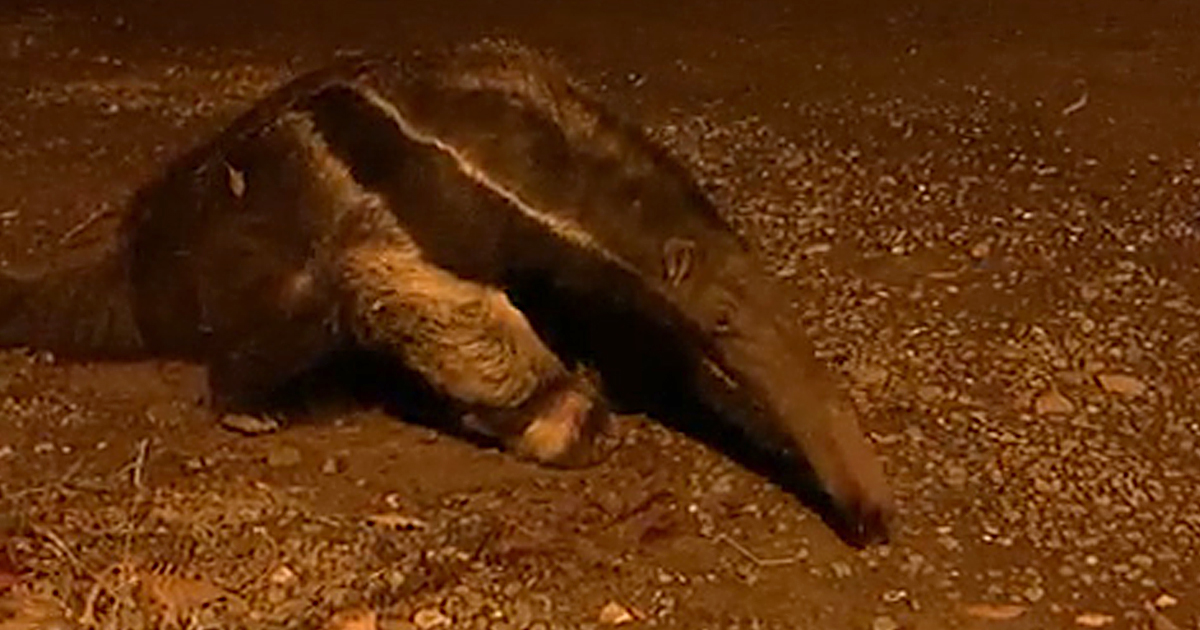TamanduaBandeira: (18, 34, 906, 560)
